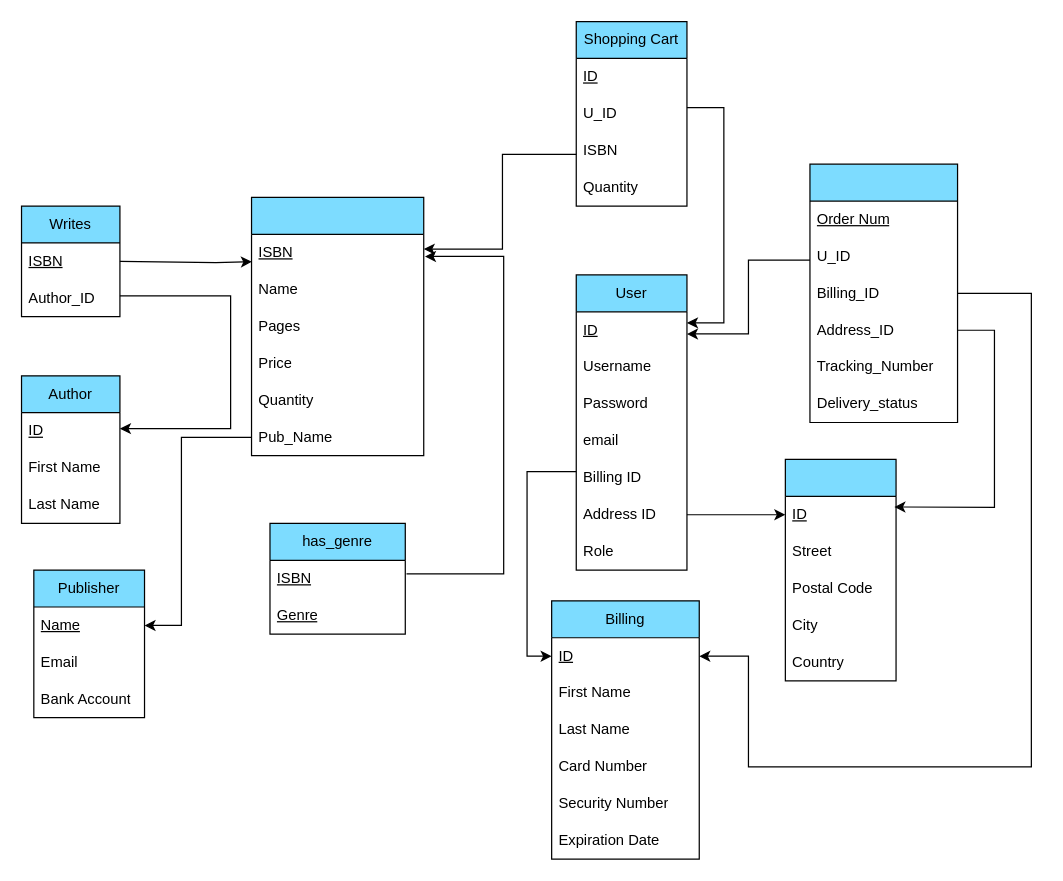
The diagram is 1063 pixels wide and 881 high, and some of its shapes have lost their labels. The box of each missing label's shape, as (x1, y1, x2, y2) in pixels:
Address: (784, 458, 896, 681)
Books: (250, 196, 424, 456)
Orders: (809, 163, 958, 423)
